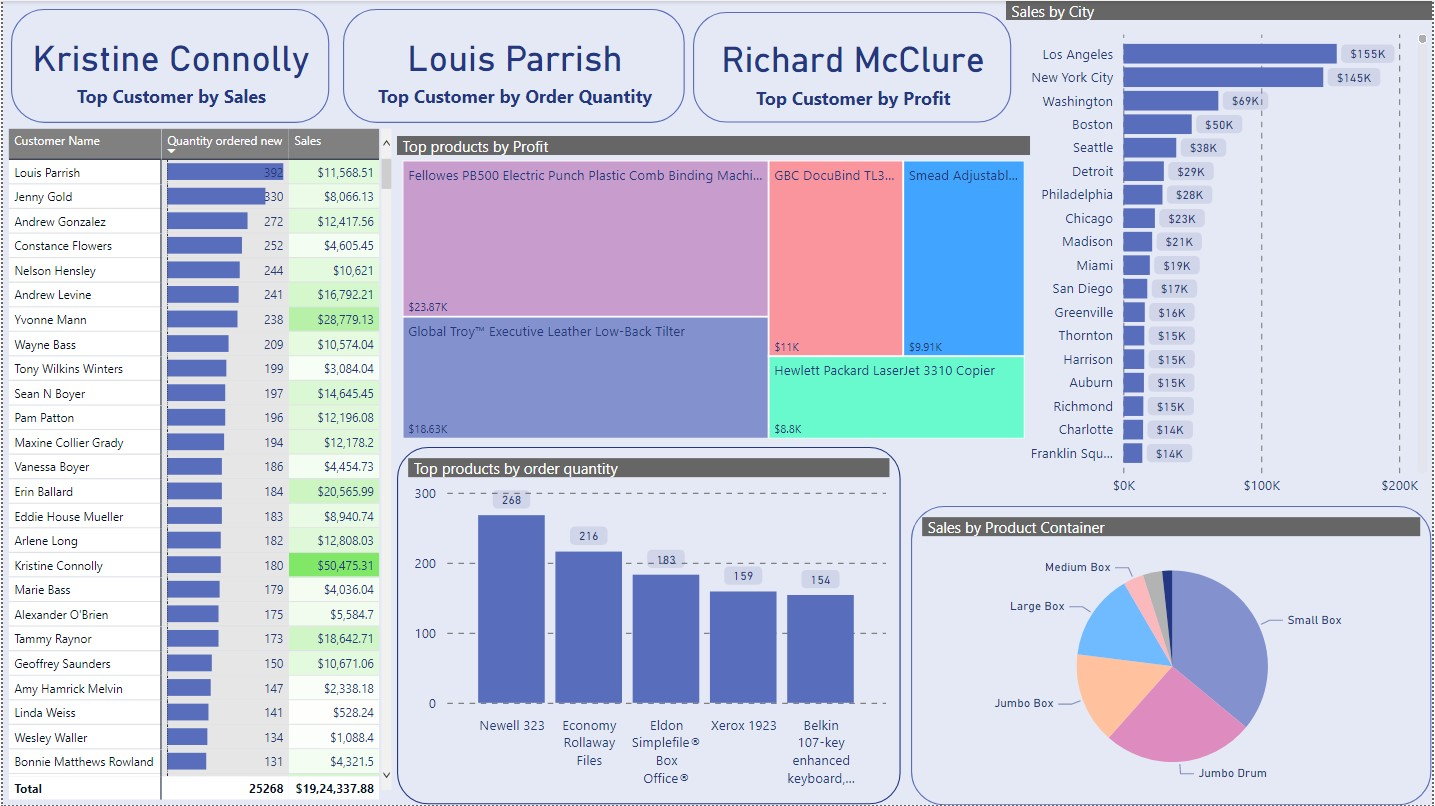

The dashboard page shown, as its layout file describes it:
{"tool":"powerbi","page":{"name":"Page 2","canvas":[1280,720],"ordinal":1},"visuals":[{"type":"barChart","fields":{"Category":["Orders.City"],"Y":["Orders.Sales"]},"box":[898,0,382,452.1],"z":0},{"type":"pivotTable","fields":{"Rows":["Orders.Customer Name"],"Values":["Orders.Quantity ordered new","Orders.Sales"]},"box":[0,109.3,352.8,610.7],"z":1},{"type":"pieChart","fields":{"Category":["Orders.Product Container"],"Y":["Orders.Sales"]},"box":[813.5,452.1,466.5,267.7],"z":3},{"type":"card","fields":{"Values":["Orders.Customer Name"]},"box":[7.2,7.2,285.2,101.9],"z":4},{"type":"card","fields":{"Values":["Orders.Customer Name"]},"box":[617.9,10.3,285.2,98.9],"z":5},{"type":"card","fields":{"Values":["Orders.Customer Name"]},"box":[304.8,7.2,305.8,101.9],"z":6},{"type":"columnChart","title":"Top products by order quantity","fields":{"Category":["Orders.Product Name"],"Y":["Orders.Quantity ordered new"]},"box":[353.2,399.5,451,320.3],"z":7},{"type":"treemap","title":"Top products by Profit","fields":{"Group":["Orders.Product Name"],"Values":["Orders.Profit"]},"box":[353.2,120.5,567.4,276],"z":8}]}

Visuals, with their boxes in screenshot pixels (x1, y1, x2, y2), scaled from the page's 1280x720 canvas onto the 1435x806 screenshot:
barChart - Orders.City x Orders.Sales: (1007, 0, 1434, 506)
pivotTable - Orders.Customer Name x Orders.Quantity ordered new: (0, 122, 396, 805)
pieChart - Orders.Product Container x Orders.Sales: (912, 506, 1434, 805)
card - Orders.Customer Name: (8, 8, 328, 122)
card - Orders.Customer Name: (693, 12, 1012, 122)
card - Orders.Customer Name: (342, 8, 685, 122)
"Top products by order quantity" columnChart: (396, 447, 902, 805)
"Top products by Profit" treemap: (396, 135, 1032, 444)
